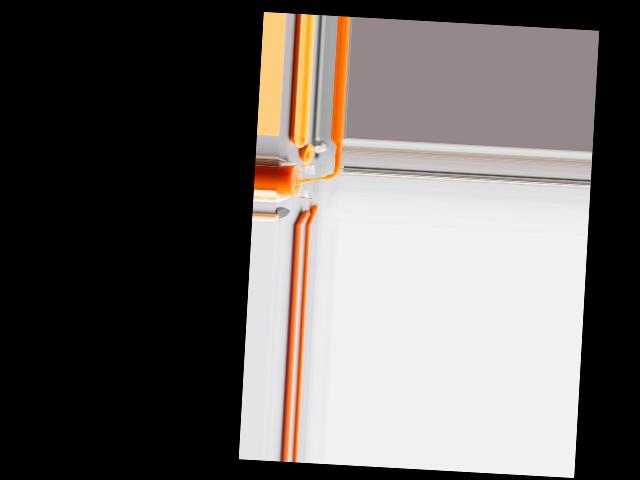carrot: (293, 202, 317, 225)
